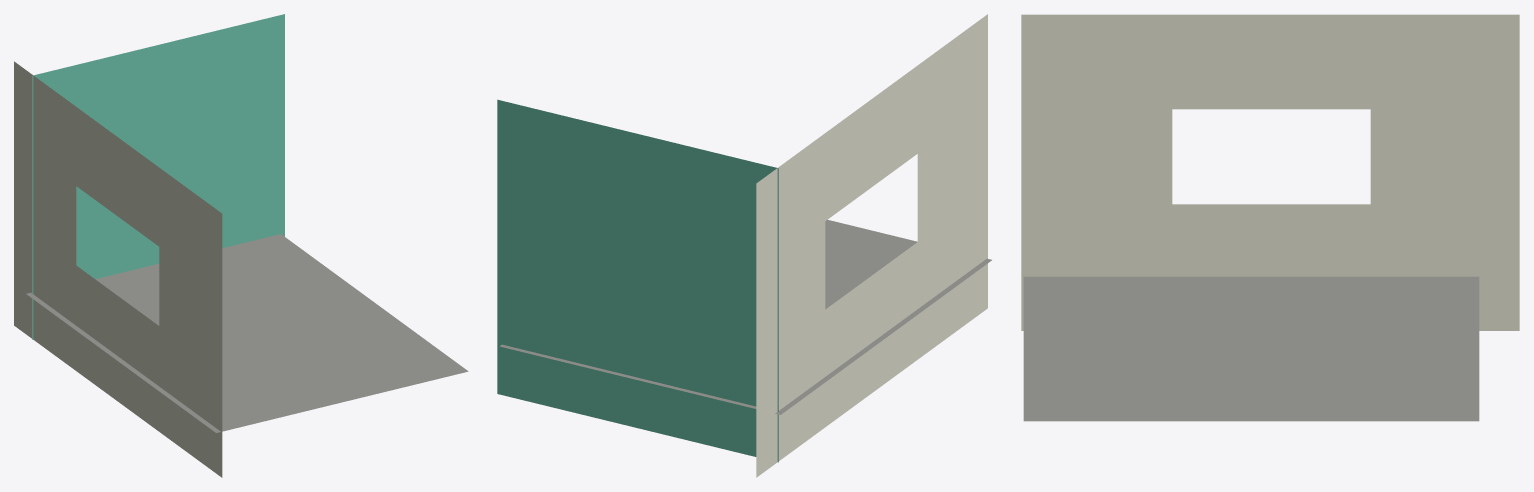
The model's file is room_R.fbx.
3 renders of one model, left to right at view 1: azimuth 30°, elevation 25°; view 2: azimuth 150°, elevation 25°; view 3: azimuth 270°, elevation 25°, orthographic. The views are drawn at different scales.
Visible parts, largest first — view 1: room_R_geo; view 2: room_R_geo; view 3: room_R_geo.
Boxes of the visible parts, bbox=[...] form: room_R_geo: bbox=[14, 14, 468, 477]; room_R_geo: bbox=[497, 14, 991, 477]; room_R_geo: bbox=[1021, 14, 1519, 421].
Bounding box in the file's own units: 631 × 621 × 886.
